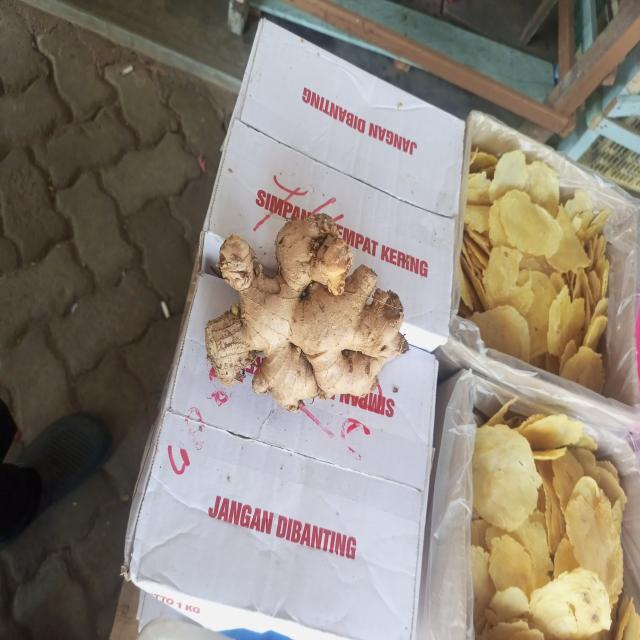ginger: (206, 227, 401, 402)
